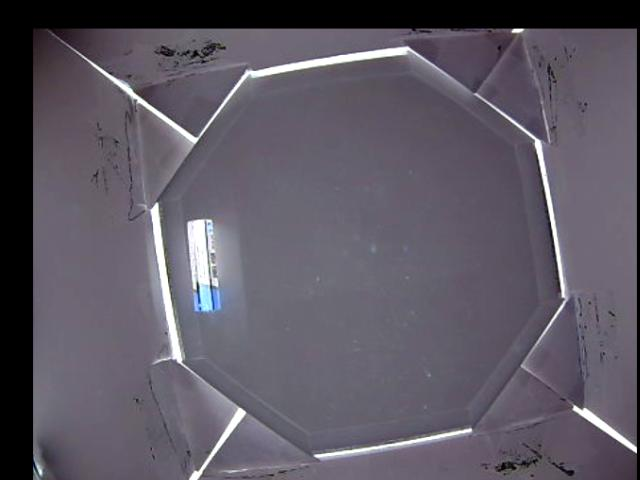Battery: (182, 217, 220, 316)
